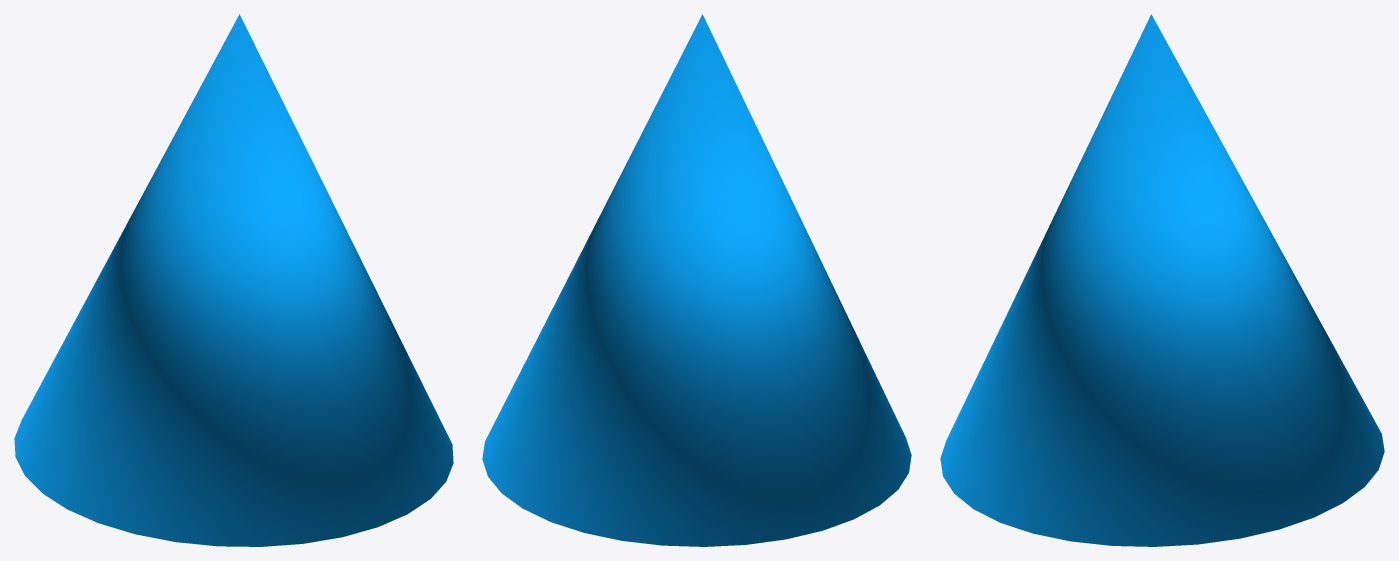
3 views of the same model, side by side, from view 1: azimuth 30°, elevation 25°; view 2: azimuth 150°, elevation 25°; view 3: azimuth 270°, elevation 25° (orthographic).
Visible parts, largest first — view 1: 円錐; view 2: 円錐; view 3: 円錐.
Part boxes in pixels (left/top/right/bottom): 円錐: left=14, top=14, right=453, bottom=546; 円錐: left=482, top=14, right=911, bottom=546; 円錐: left=940, top=14, right=1384, bottom=546.
Bounding box in the file's own units: 482 × 547 × 494.
